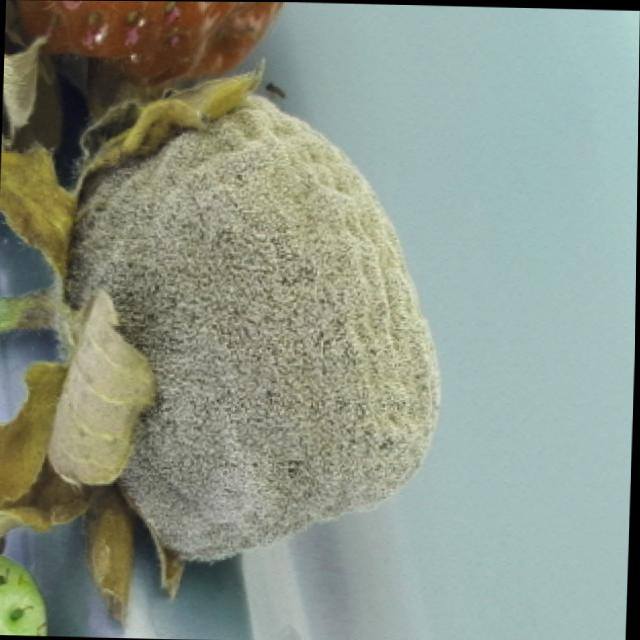Gray Mold: (0, 52, 446, 633)
